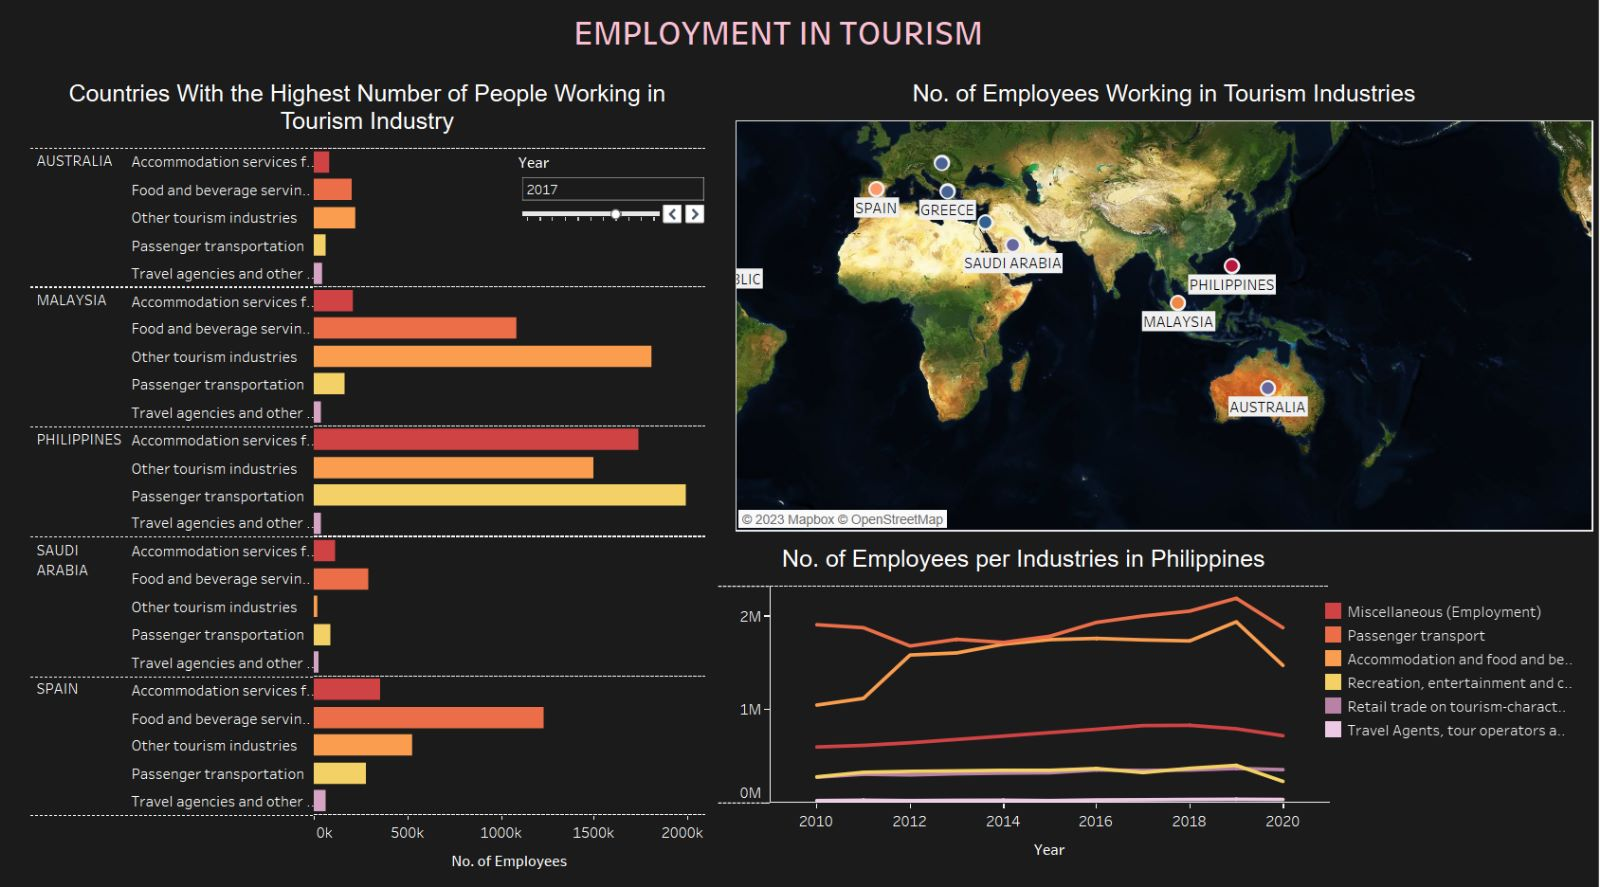

This screenshot's page, from the dashboard's own definition file:
{"tool":"tableau","page":{"name":"Employment D3","canvas":[1366,768],"ordinal":4},"visuals":[{"type":"text","box":[490,8,383,55]},{"type":"worksheet","title":"No. people in toursim","mark":"Bar","cols":["Calculation_392376133501120514"],"box":[33,72,571,680]},{"type":"worksheet","title":"world map","mark":"Circle","box":[629,72,724,385]},{"type":"parameter","param":"[Parameters].[2017 Parameter]","box":[446,137,160,67]},{"type":"worksheet","title":"Comparison of Employment per Industry","mark":"Automatic","cols":["Year (2I5DGVT0)"],"box":[614,465,517,277]},{"type":"legend","title":"Comparison of Employment per Industry","param":"[federated.1nf1ju11i2g0tb10lumna123xwra].[:Measure Names]","box":[1124,514,217,169]}]}

Visuals, with their boxes in screenshot pixels (x1, y1, x2, y2), scaled from the page's 1366x768 canvas onto the 1600x887 screenshot:
text: region(574, 9, 1023, 73)
"No. people in toursim" worksheet (Bar marks): region(39, 83, 707, 869)
"world map" worksheet (Circle marks): region(737, 83, 1585, 528)
parameter: region(522, 158, 710, 236)
"Comparison of Employment per Industry" worksheet: region(719, 537, 1325, 857)
"Comparison of Employment per Industry" legend: region(1317, 594, 1571, 789)
